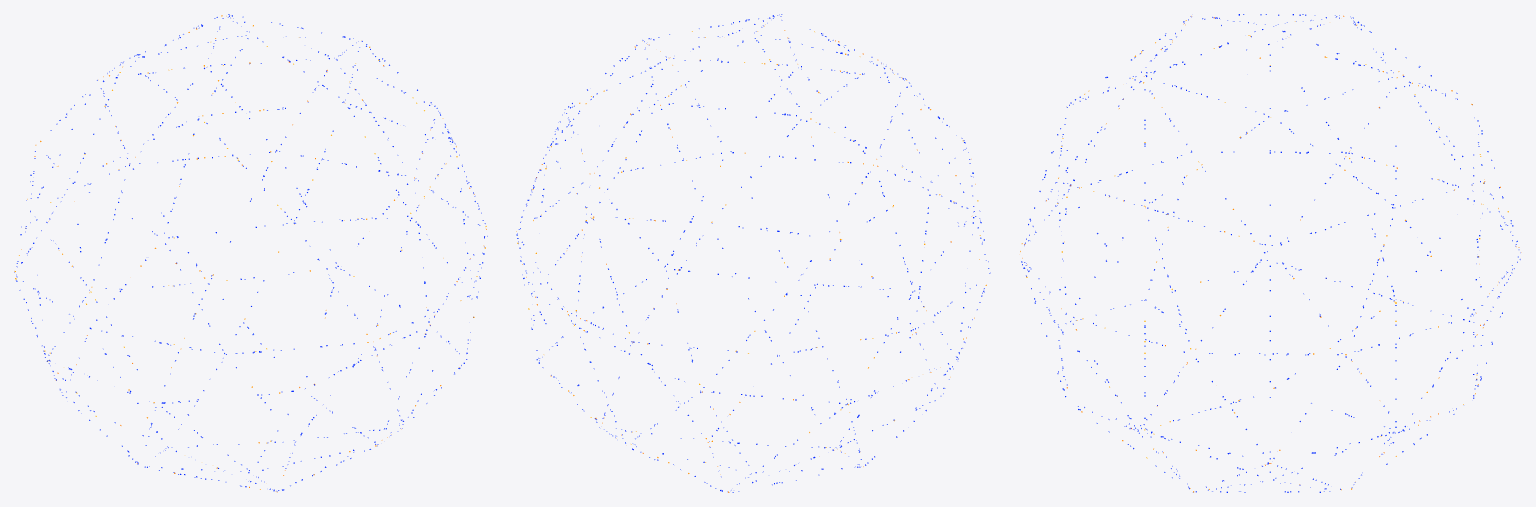
File: SpaceSphere.glb
3 views of the same model, side by side, from view 1: azimuth 30°, elevation 25°; view 2: azimuth 150°, elevation 25°; view 3: azimuth 270°, elevation 25° (orthographic). The views are drawn at different scales.
Parts seen in each view (by area): view 1: Icosphere.004; view 2: Icosphere.004; view 3: Icosphere.004.
Boxes of the visible parts, bbox=[...] form: Icosphere.004: bbox=[14, 14, 487, 492]; Icosphere.004: bbox=[516, 14, 990, 492]; Icosphere.004: bbox=[1020, 14, 1521, 492].
Bounding box in the file's own units: 279 × 292 × 293.
